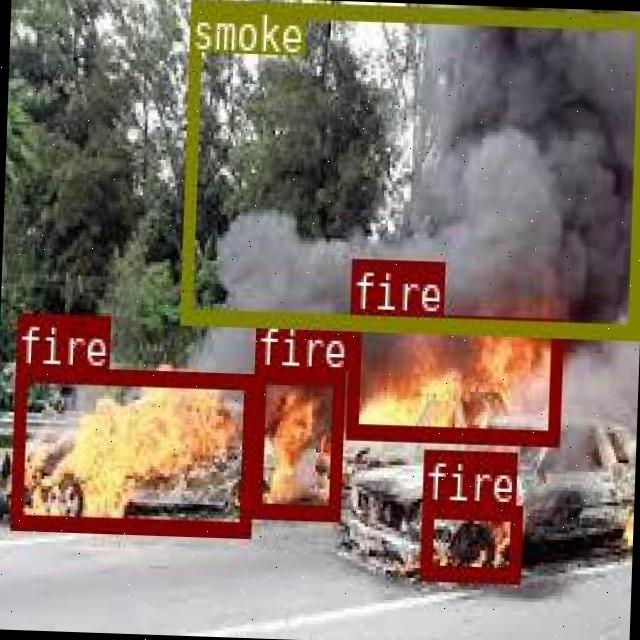fire: (9, 362, 252, 532), (344, 309, 560, 443), (249, 366, 342, 518), (419, 502, 520, 580)
smoke: (178, 0, 640, 335)
